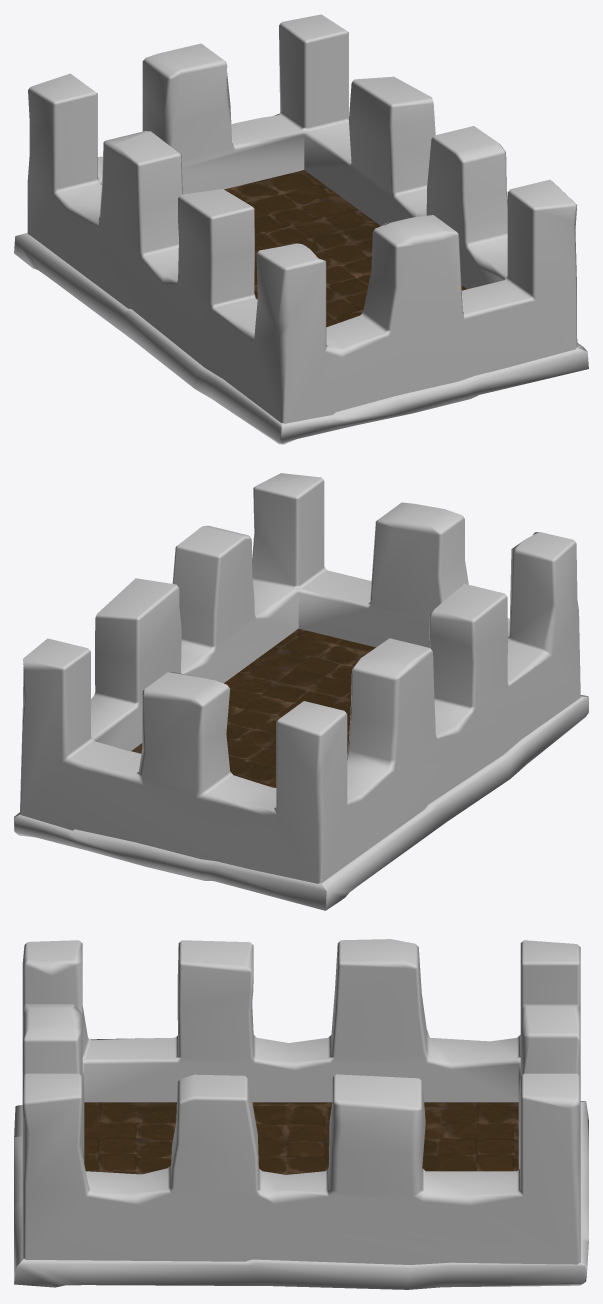
File: lower_city_house_01_02_prongs.fbx
3 renders of one model, top to bottom at view 1: azimuth 30°, elevation 25°; view 2: azimuth 150°, elevation 25°; view 3: azimuth 270°, elevation 25°, orthographic. The views are drawn at different scales.
Parts seen in each view (by area): view 1: lower_city_house_01_02_prongs; view 2: lower_city_house_01_02_prongs; view 3: lower_city_house_01_02_prongs.
Boxes of the visible parts, x1=… form: lower_city_house_01_02_prongs: x1=14, y1=14, x2=588, y2=444; lower_city_house_01_02_prongs: x1=14, y1=473, x2=588, y2=910; lower_city_house_01_02_prongs: x1=14, y1=939, x2=588, y2=1289.
Size of the model in its own units: 2.8 by 1.53 by 4.11.
